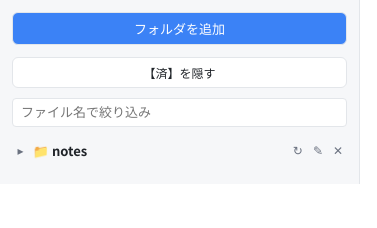
Scenario: Sidebar › フォルダはデフォルトで折りたたまれており、キャレットクリックで開閉できる
Expected: the button "a.md" is not shown
Click the button named "notes を展開する" at (20, 150), box [12, 142, 29, 160]
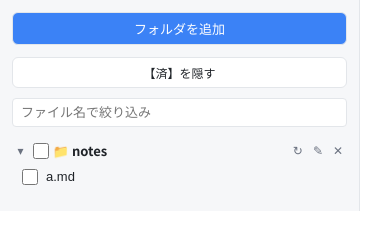
Now the button "a.md" is shown, box [40, 166, 321, 187]
Click the button named "notes を折りたたむ" at (20, 150), box [12, 142, 29, 160]
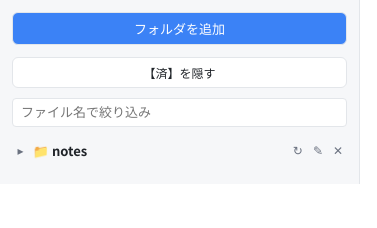
Now the button "a.md" is gone
